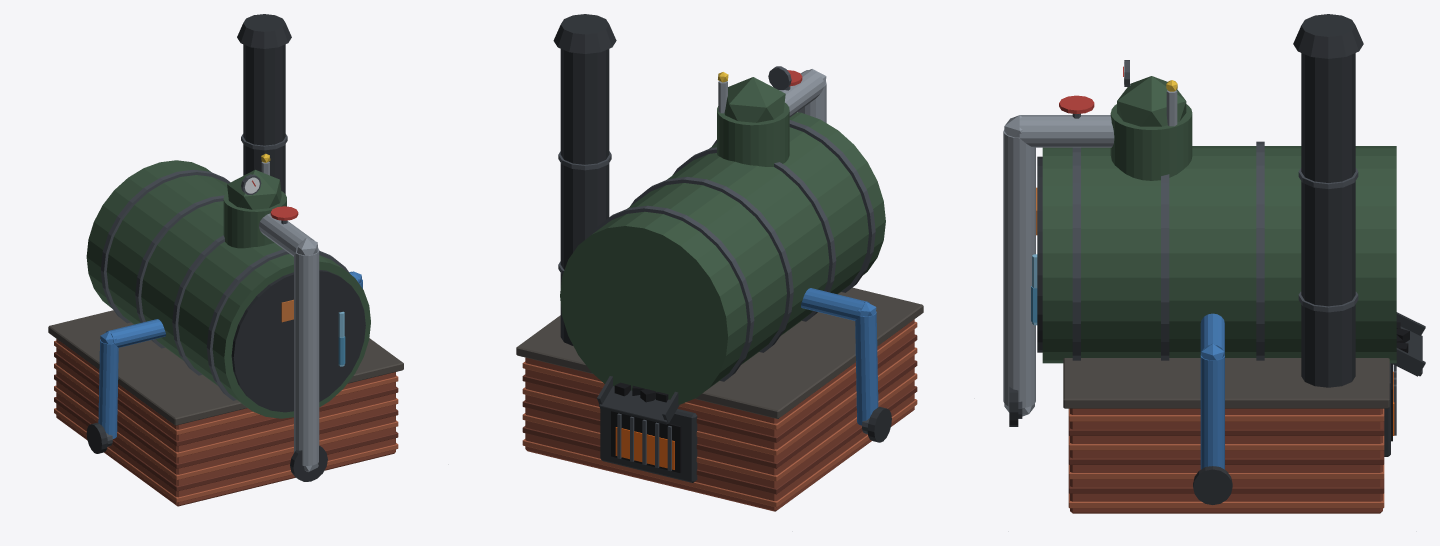
The model's file is chaudiere.glb.
3 renders of one model, left to right at view 1: azimuth 30°, elevation 25°; view 2: azimuth 150°, elevation 25°; view 3: azimuth 270°, elevation 25°, orthographic. The views are drawn at different scales.
Visible parts, largest first — view 1: corps.004, pieces_brique.002, pieces_fonte.012, pieces_pierre_sombre.006, pieces_acier.018, pieces_brique_claire.002, pieces_acier_sombre.016, cheminee.002, pieces_brique_sombre.002, pieces_bleu.006, dome.002, cheminee_tete.002 (+1 smaller); view 2: corps.004, pieces_brique.002, pieces_pierre_sombre.006, cheminee.002, pieces_acier_sombre.016, pieces_brique_claire.002, pieces_brique_sombre.002, pieces_fonte.012, pieces_bleu.006, dome.002, pieces_vert_fonce.006, cheminee_tete.002 (+3 smaller); view 3: corps.004, pieces_brique.002, cheminee.002, pieces_pierre_sombre.006, pieces_acier.018, pieces_brique_claire.002, pieces_acier_sombre.016, pieces_brique_sombre.002, pieces_fonte.012, dome.002, pieces_bleu.006, cheminee_tete.002 (+2 smaller).
Part boxes in pixels (x1=…): corps.004: x1=86, y1=160, x2=370, y2=418; pieces_brique.002: x1=56, y1=339, x2=395, y2=506; pieces_fonte.012: x1=86, y1=270, x2=365, y2=481; pieces_pierre_sombre.006: x1=48, y1=310, x2=403, y2=425; pieces_acier.018: x1=259, y1=161, x2=319, y2=471; pieces_brique_claire.002: x1=54, y1=340, x2=398, y2=502; pieces_acier_sombre.016: x1=101, y1=134, x2=349, y2=446; cheminee.002: x1=243, y1=44, x2=285, y2=193; pieces_brique_sombre.002: x1=54, y1=352, x2=398, y2=491; pieces_bleu.006: x1=98, y1=271, x2=362, y2=438; dome.002: x1=223, y1=191, x2=286, y2=248; cheminee_tete.002: x1=237, y1=14, x2=291, y2=48; corps.004: x1=560, y1=112, x2=885, y2=404; pieces_brique.002: x1=525, y1=319, x2=914, y2=511; pieces_pierre_sombre.006: x1=516, y1=287, x2=923, y2=418; cheminee.002: x1=560, y1=49, x2=609, y2=345; pieces_acier_sombre.016: x1=558, y1=86, x2=875, y2=471; pieces_brique_claire.002: x1=522, y1=321, x2=917, y2=507; pieces_brique_sombre.002: x1=522, y1=334, x2=917, y2=494; pieces_fonte.012: x1=597, y1=376, x2=891, y2=482; pieces_bleu.006: x1=801, y1=288, x2=878, y2=425; dome.002: x1=717, y1=102, x2=789, y2=166; pieces_vert_fonce.006: x1=724, y1=77, x2=785, y2=122; cheminee_tete.002: x1=553, y1=14, x2=616, y2=53; corps.004: x1=1042, y1=146, x2=1396, y2=363; pieces_brique.002: x1=1070, y1=408, x2=1382, y2=513; cheminee.002: x1=1301, y1=53, x2=1355, y2=387; pieces_pierre_sombre.006: x1=1063, y1=358, x2=1389, y2=408; pieces_acier.018: x1=1003, y1=84, x2=1177, y2=416; pieces_brique_claire.002: x1=1068, y1=408, x2=1384, y2=508; pieces_acier_sombre.016: x1=1018, y1=113, x2=1396, y2=435; pieces_brique_sombre.002: x1=1068, y1=421, x2=1384, y2=493; pieces_fonte.012: x1=1009, y1=156, x2=1425, y2=504; dome.002: x1=1110, y1=104, x2=1192, y2=180; pieces_bleu.006: x1=1200, y1=313, x2=1224, y2=469; cheminee_tete.002: x1=1293, y1=14, x2=1363, y2=58.
Size of the model in its own units: 1.5 by 1.9 by 1.55.
